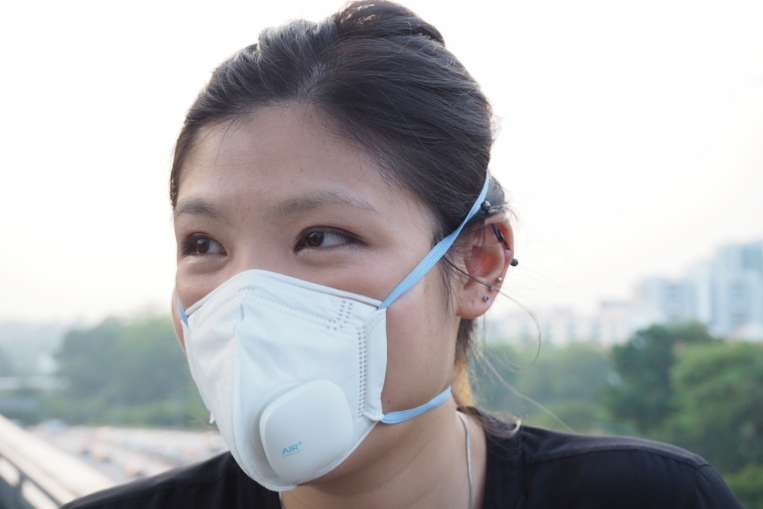n95: (166, 264, 413, 487)
